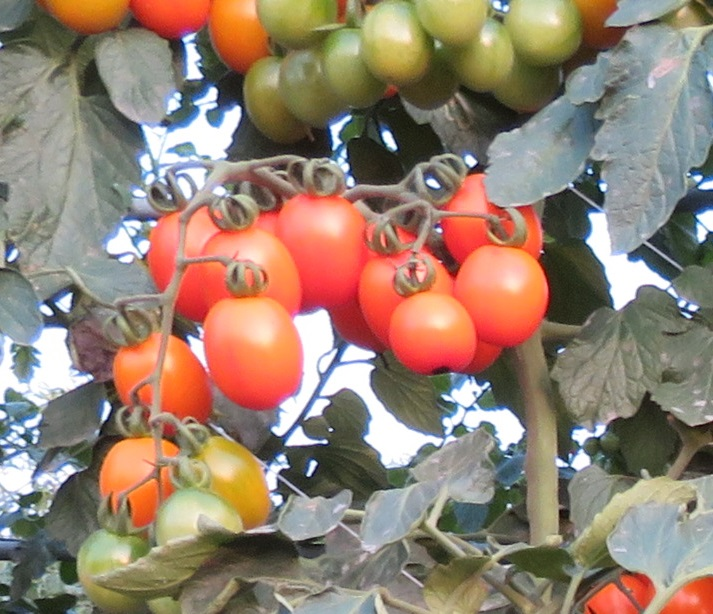green: (190, 433, 285, 532), (503, 1, 584, 68), (145, 487, 245, 539), (369, 1, 428, 89), (238, 48, 288, 144), (450, 37, 516, 95), (319, 25, 360, 104), (281, 40, 318, 127), (416, 1, 483, 49), (264, 1, 335, 44)
orange: (202, 293, 312, 411), (281, 187, 366, 311), (195, 223, 306, 311), (108, 331, 205, 430), (461, 243, 553, 347), (390, 292, 480, 383), (363, 254, 453, 332), (102, 437, 179, 524)
